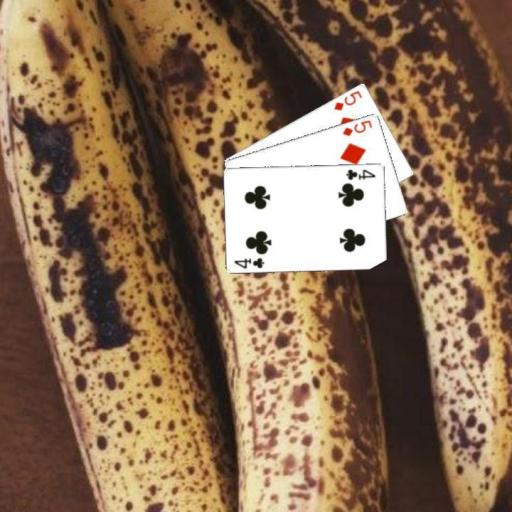card-corner: (331, 88, 363, 112), (339, 117, 374, 137), (231, 254, 266, 270), (343, 166, 377, 181)
